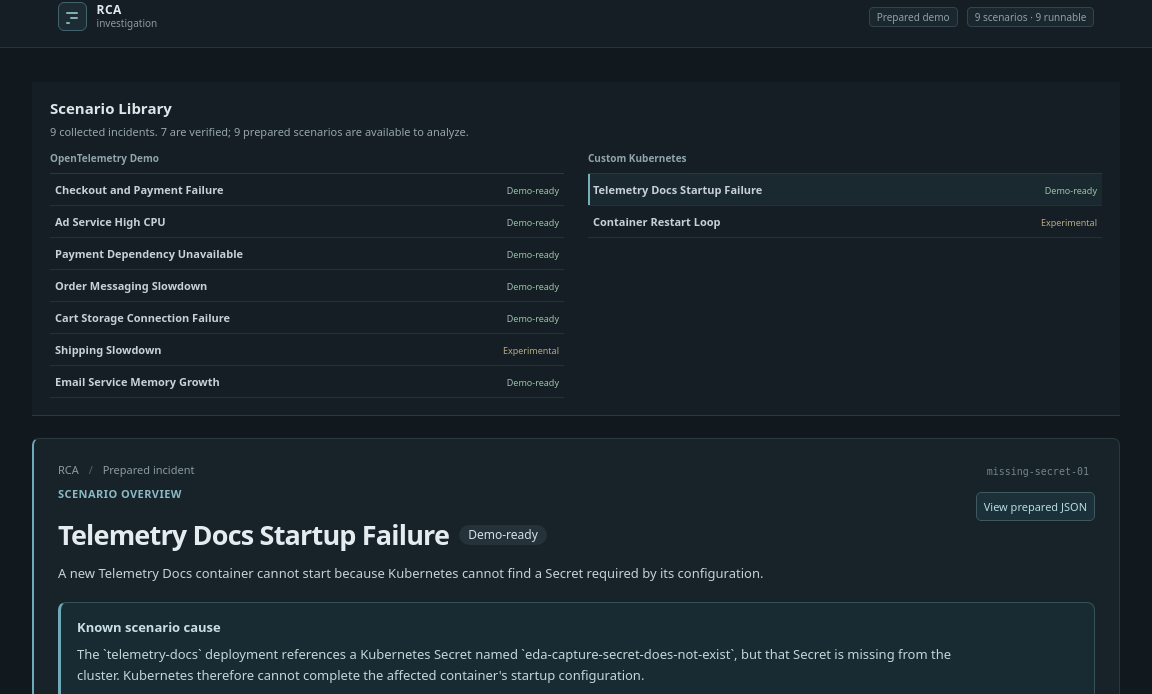
Test case: new scenario overview explains Payment Dependency Unavailable in plain language
Expected: the heading "Scenario overview" is shown, left=58, top=486, right=182, bottom=501
Click the button "Payment Dependency Unavailable Demo-ready": (149, 253) left=50, top=238, right=564, bottom=270
(page scrolled)
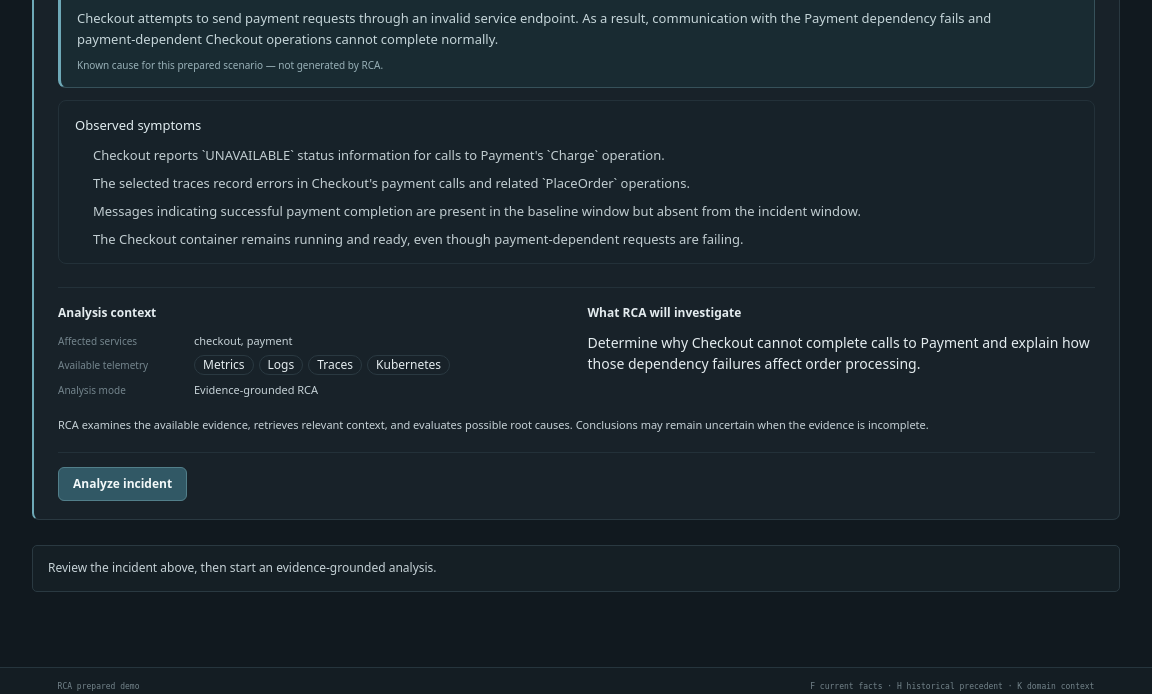
Expected: the text "Available telemetry" is shown, left=58, top=358, right=148, bottom=372
Expected: the text "invalid service endpoint" is shown, left=77, top=9, right=991, bottom=48
Expected: the list item "Checkout reports `UNAVAILABLE` status information for calls to Payment's `Charge` operation." is shown, left=93, top=146, right=665, bottom=164
